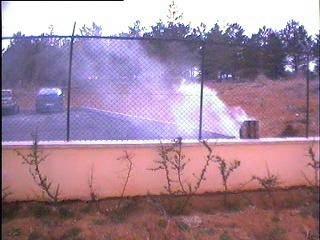smoke: (79, 40, 263, 140)
